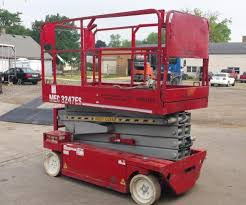Scissor Lift: (38, 7, 211, 204)
